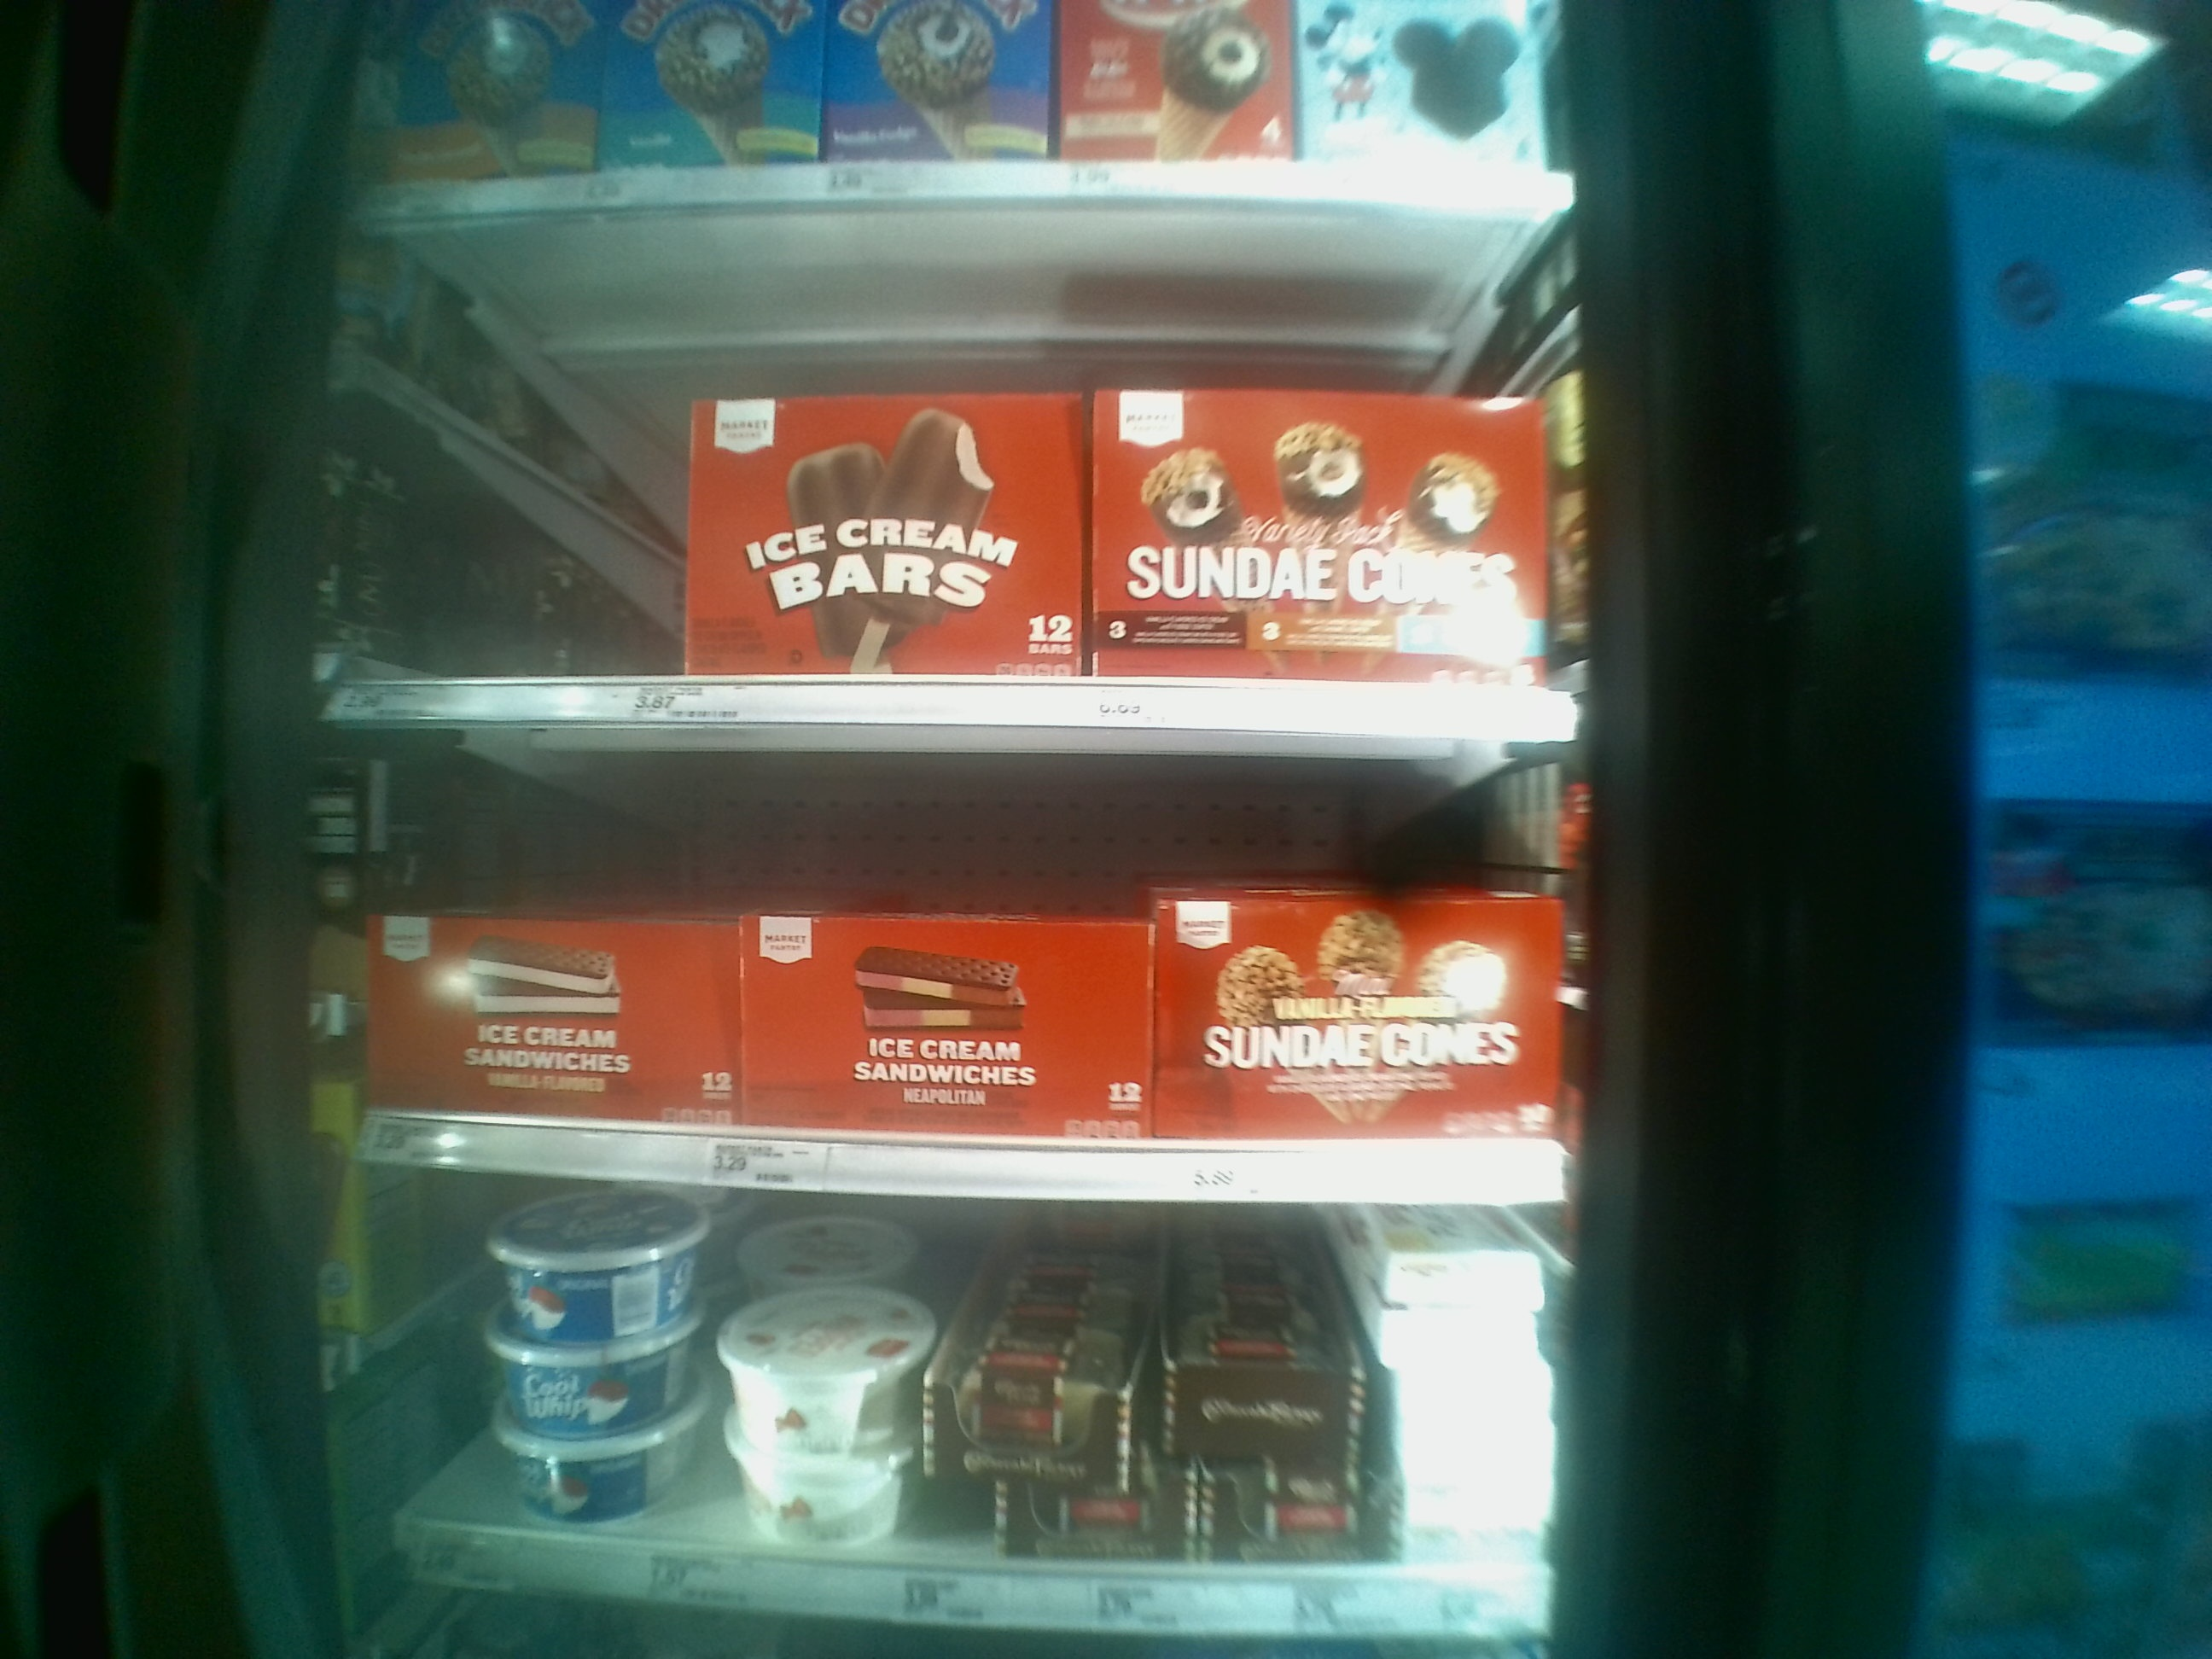shelf: (320, 204, 1578, 721), (319, 721, 1581, 1208), (341, 1159, 1564, 1638)
